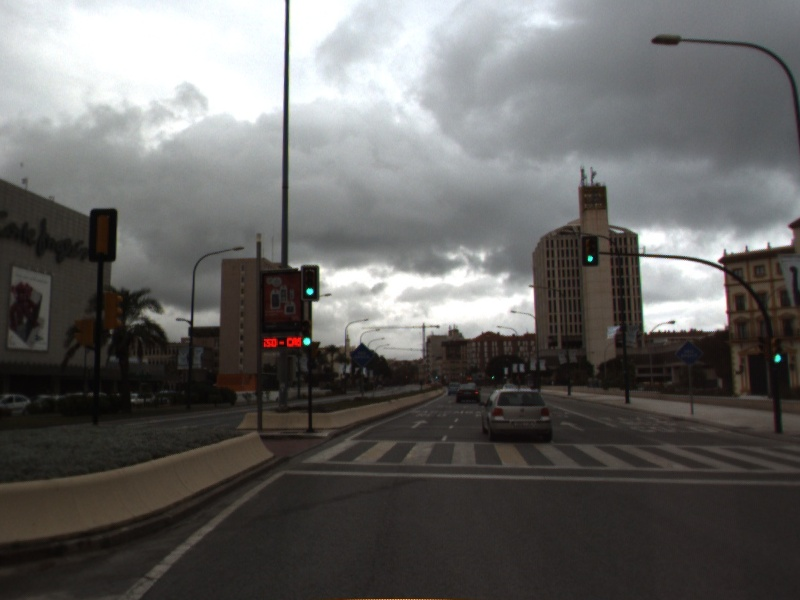STRAIGHT: (557, 418, 587, 434), (409, 418, 431, 430)
